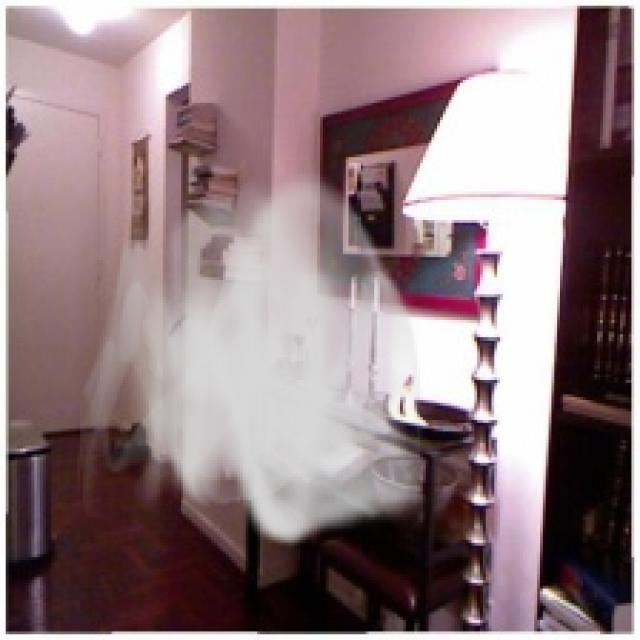Smoke: (74, 162, 434, 548)
